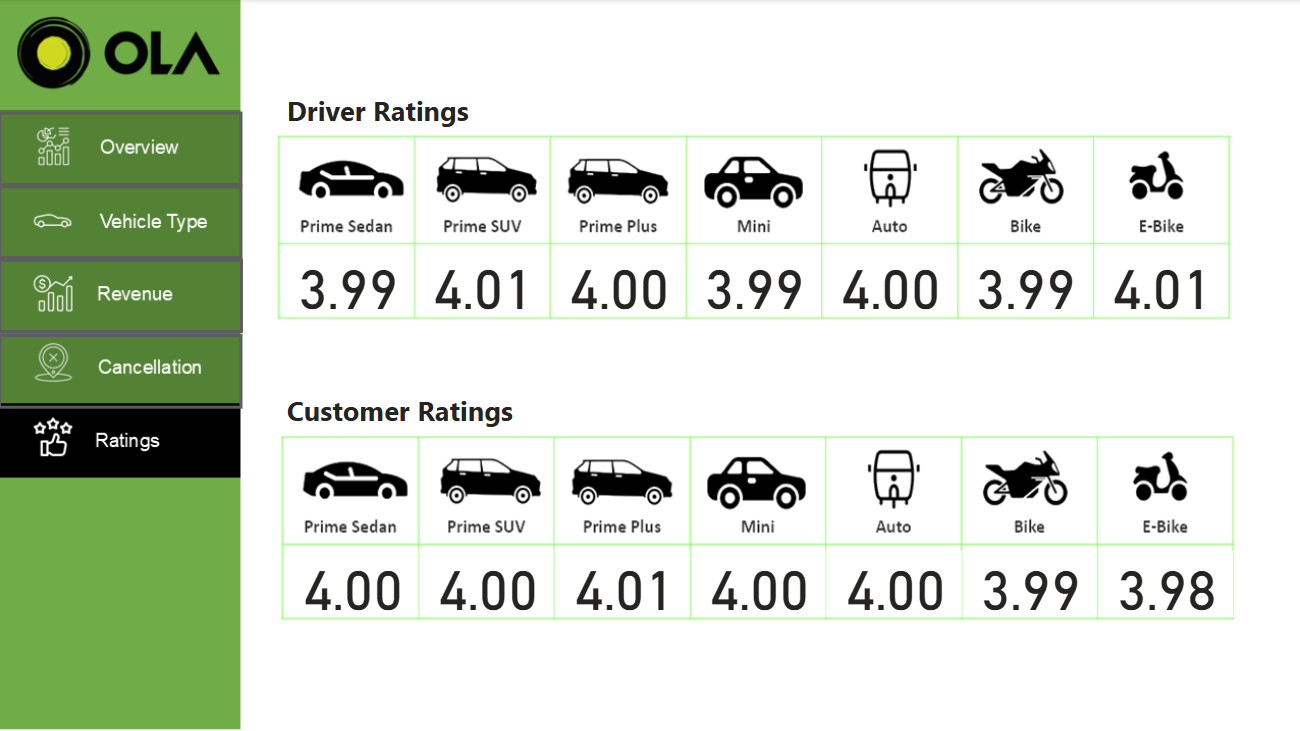

This screenshot's page, from the dashboard's own definition file:
{"tool":"powerbi","page":{"name":"Ratings","canvas":[1280,720],"ordinal":4},"visuals":[{"type":"actionButton","box":[0.3,183.1,240,72.4],"z":0},{"type":"actionButton","box":[0,255.5,240.5,72.7],"z":1000},{"type":"actionButton","box":[0,328.3,240.3,73.4],"z":2000},{"type":"actionButton","box":[0.4,110,240,73.2],"z":3000},{"type":"card","fields":{"Values":["Avg(dataset.Driver_Ratings)"]},"box":[279.2,245.8,128.3,65.8],"z":4000},{"type":"card","fields":{"Values":["Avg(dataset.Driver_Ratings)"]},"box":[412.5,245.8,128.3,65.8],"z":5000},{"type":"card","fields":{"Values":["Avg(dataset.Driver_Ratings)"]},"box":[545.8,245.8,128.3,65.8],"z":6000},{"type":"card","fields":{"Values":["Avg(dataset.Driver_Ratings)"]},"box":[678.9,245.8,128.4,65.8],"z":7000},{"type":"card","fields":{"Values":["Avg(dataset.Driver_Ratings)"]},"box":[812.1,245.8,128.4,65.8],"z":8000},{"type":"card","fields":{"Values":["Avg(dataset.Driver_Ratings)"]},"box":[945.3,245.8,128.4,65.8],"z":9000},{"type":"card","fields":{"Values":["Avg(dataset.Driver_Ratings)"]},"box":[1078.9,245.8,128.4,65.8],"z":10000},{"type":"card","fields":{"Values":["Avg(dataset.Customer_Rating)"]},"box":[284.2,540.8,128.3,65.8],"z":11000},{"type":"card","fields":{"Values":["Avg(dataset.Customer_Rating)"]},"box":[417.5,540.8,128.3,65.8],"z":12000},{"type":"card","fields":{"Values":["Avg(dataset.Customer_Rating)"]},"box":[550.8,540.8,128.3,65.8],"z":13000},{"type":"card","fields":{"Values":["Avg(dataset.Customer_Rating)"]},"box":[683.9,540.8,128.4,65.8],"z":14000},{"type":"card","fields":{"Values":["Avg(dataset.Customer_Rating)"]},"box":[817.1,540.8,128.4,65.8],"z":15000},{"type":"card","fields":{"Values":["Avg(dataset.Customer_Rating)"]},"box":[950.3,540.8,128.4,65.8],"z":16000},{"type":"card","fields":{"Values":["Avg(dataset.Customer_Rating)"]},"box":[1083.9,540.8,128.4,65.8],"z":17000},{"type":"textbox","box":[278.8,86.2,197.5,45],"z":18000},{"type":"textbox","box":[278.8,380,241.2,45],"z":19000}]}

Visuals, with their boxes on the page's 1280x720 design canvas (x1, y1, x2, y2). These are canvas units, not pixel positions in the 1300x731 screenshot, which may show the page scaled, cropped or inside an application window:
actionButton: {"x1": 0, "y1": 183, "x2": 240, "y2": 256}
actionButton: {"x1": 0, "y1": 256, "x2": 240, "y2": 328}
actionButton: {"x1": 0, "y1": 328, "x2": 240, "y2": 402}
actionButton: {"x1": 0, "y1": 110, "x2": 240, "y2": 183}
card - Avg(dataset.Driver_Ratings): {"x1": 279, "y1": 246, "x2": 408, "y2": 312}
card - Avg(dataset.Driver_Ratings): {"x1": 412, "y1": 246, "x2": 541, "y2": 312}
card - Avg(dataset.Driver_Ratings): {"x1": 546, "y1": 246, "x2": 674, "y2": 312}
card - Avg(dataset.Driver_Ratings): {"x1": 679, "y1": 246, "x2": 807, "y2": 312}
card - Avg(dataset.Driver_Ratings): {"x1": 812, "y1": 246, "x2": 940, "y2": 312}
card - Avg(dataset.Driver_Ratings): {"x1": 945, "y1": 246, "x2": 1074, "y2": 312}
card - Avg(dataset.Driver_Ratings): {"x1": 1079, "y1": 246, "x2": 1207, "y2": 312}
card - Avg(dataset.Customer_Rating): {"x1": 284, "y1": 541, "x2": 412, "y2": 607}
card - Avg(dataset.Customer_Rating): {"x1": 418, "y1": 541, "x2": 546, "y2": 607}
card - Avg(dataset.Customer_Rating): {"x1": 551, "y1": 541, "x2": 679, "y2": 607}
card - Avg(dataset.Customer_Rating): {"x1": 684, "y1": 541, "x2": 812, "y2": 607}
card - Avg(dataset.Customer_Rating): {"x1": 817, "y1": 541, "x2": 946, "y2": 607}
card - Avg(dataset.Customer_Rating): {"x1": 950, "y1": 541, "x2": 1079, "y2": 607}
card - Avg(dataset.Customer_Rating): {"x1": 1084, "y1": 541, "x2": 1212, "y2": 607}
textbox: {"x1": 279, "y1": 86, "x2": 476, "y2": 131}
textbox: {"x1": 279, "y1": 380, "x2": 520, "y2": 425}
